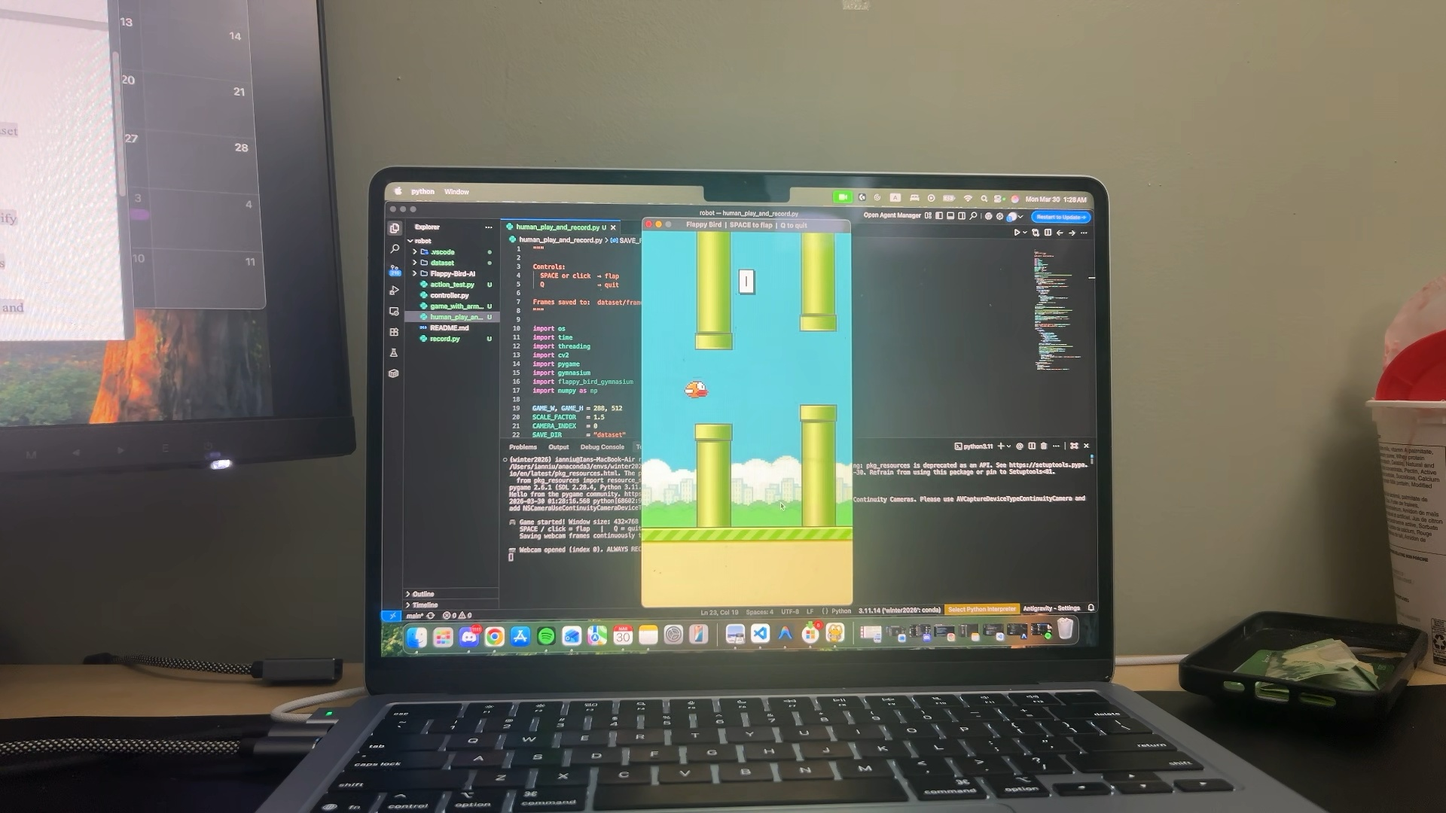bird: (683, 376, 710, 404)
green pipes: (694, 233, 732, 352), (804, 406, 838, 529), (695, 423, 729, 527), (799, 235, 835, 331)
